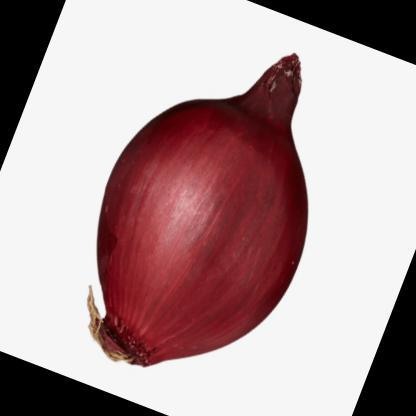onion: (18, 0, 398, 415)
